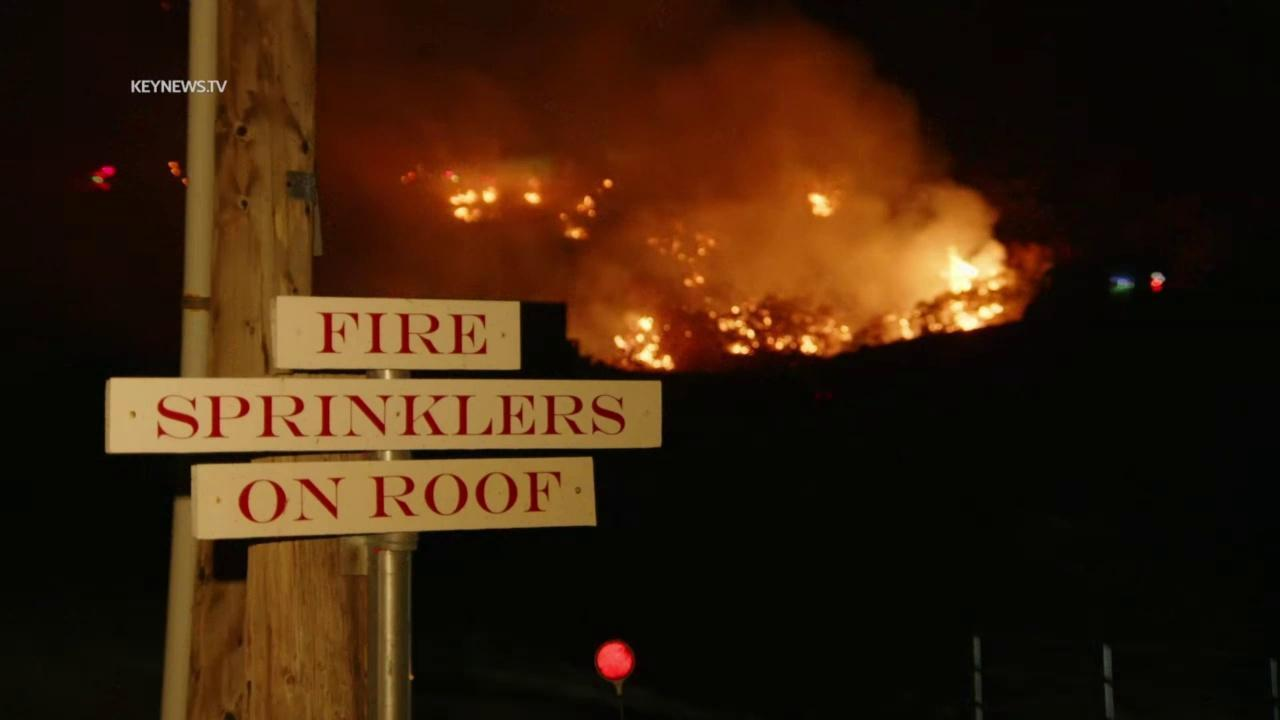fire: (896, 245, 1007, 340), (704, 306, 854, 357), (645, 230, 725, 290), (611, 313, 678, 370), (445, 185, 499, 223), (804, 192, 840, 219), (524, 175, 543, 206), (563, 225, 591, 241)
smoke: (312, 0, 1010, 369)
